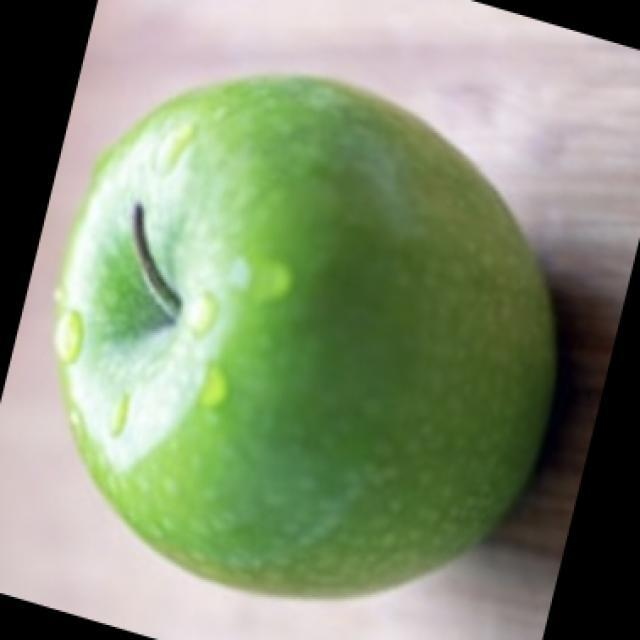Fresh Apple: (81, 90, 576, 595)
